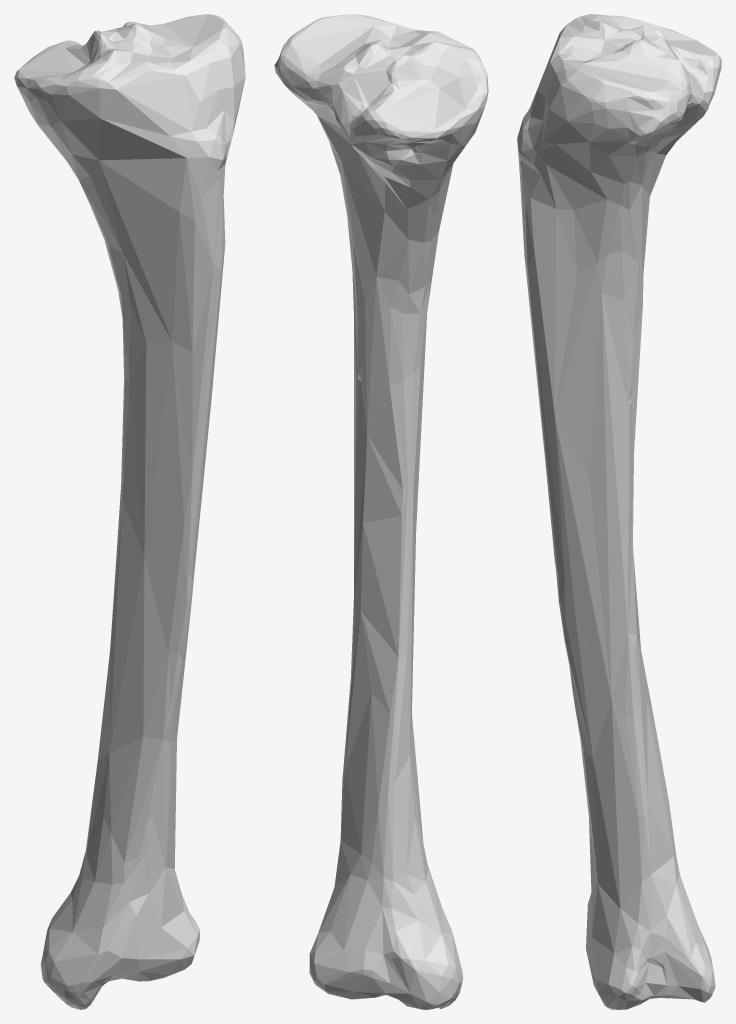
The model's file is tibia.glb.
3 views of the same model, side by side, from view 1: azimuth 30°, elevation 25°; view 2: azimuth 150°, elevation 25°; view 3: azimuth 270°, elevation 25° (orthographic). The views are drawn at different scales.
Parts seen in each view (by area): view 1: geometry_0; view 2: geometry_0; view 3: geometry_0.
Part boxes in pixels (x1,y1,x2,y2): geometry_0: (14,14,245,1009); geometry_0: (274,14,488,1009); geometry_0: (517,14,721,1009).
Bounding box in the file's own units: 0.349 × 1.59 × 0.3027.
1 material, 1 textured.
